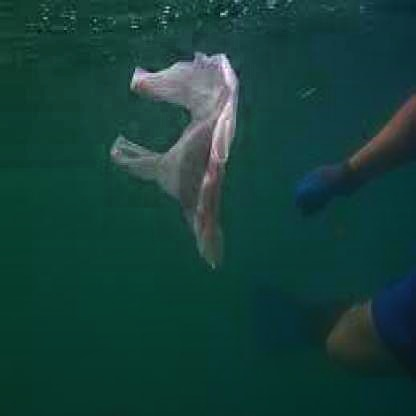pbag: (104, 41, 249, 272)
